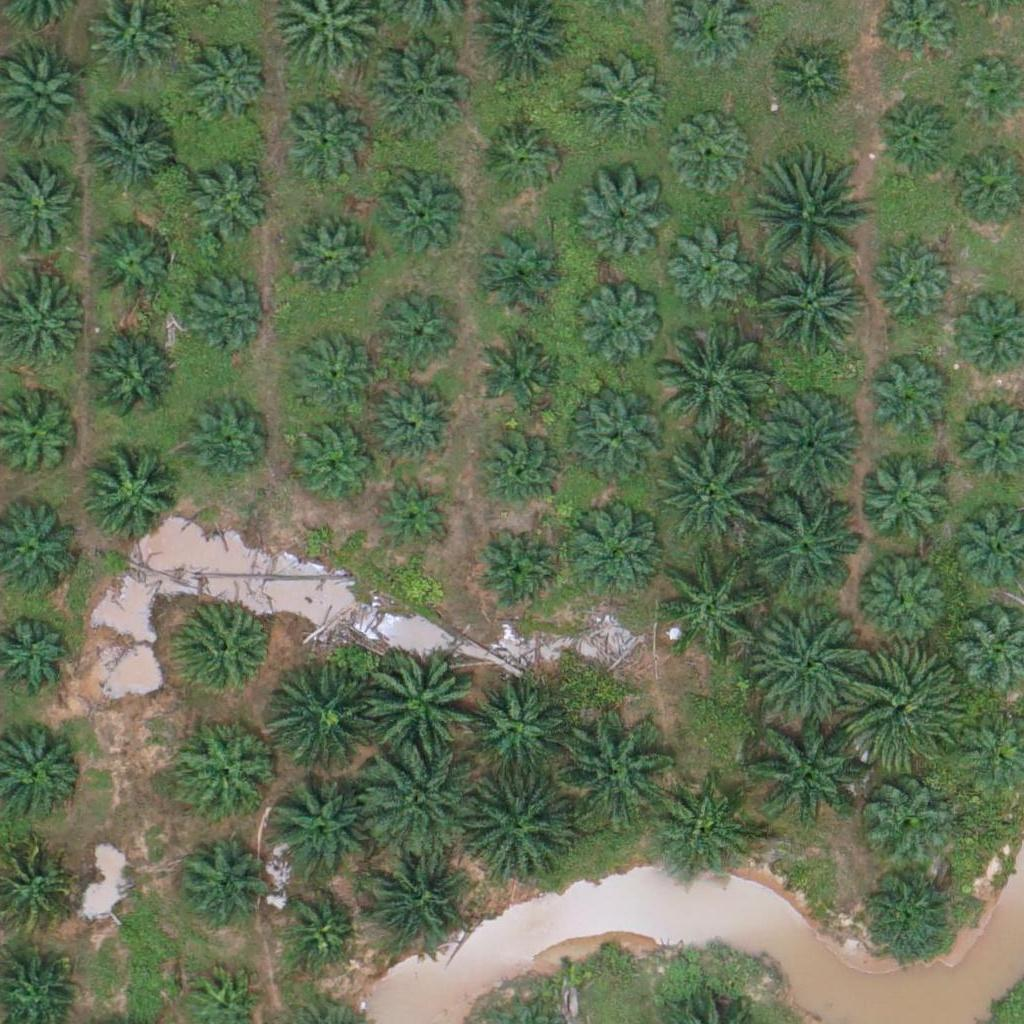Kelapa_Sawit: (458, 770, 571, 884), (747, 385, 860, 499), (846, 649, 959, 762), (754, 162, 867, 275), (751, 483, 864, 596), (265, 666, 378, 779), (758, 610, 870, 724), (747, 712, 859, 825), (558, 712, 670, 825), (366, 745, 478, 858), (752, 255, 864, 368), (659, 549, 771, 662), (659, 440, 771, 553), (655, 328, 767, 441), (365, 649, 477, 762), (266, 775, 366, 876), (564, 395, 664, 496), (365, 41, 465, 142), (465, 676, 565, 777), (84, 99, 184, 200), (80, 331, 180, 432), (81, 447, 181, 548), (857, 864, 957, 964), (654, 785, 754, 885), (364, 850, 464, 950), (177, 718, 277, 818), (857, 548, 957, 648), (861, 452, 961, 552), (563, 501, 663, 601), (175, 603, 275, 703), (861, 771, 949, 859), (174, 835, 262, 923), (760, 38, 848, 126), (867, 355, 955, 443), (576, 181, 664, 269), (576, 282, 664, 370), (179, 34, 267, 122), (183, 162, 271, 250), (176, 264, 264, 352), (278, 212, 366, 300), (376, 167, 464, 255), (475, 530, 563, 618), (477, 113, 565, 201), (666, 114, 754, 202), (873, 93, 960, 181), (866, 241, 953, 329), (183, 399, 270, 487), (293, 416, 380, 504), (289, 331, 376, 419), (280, 95, 367, 183), (374, 292, 461, 380), (375, 376, 462, 464), (473, 420, 560, 508), (481, 323, 568, 411), (473, 226, 560, 314), (665, 227, 752, 315), (579, 58, 666, 146), (88, 217, 175, 305), (376, 473, 451, 549), (281, 892, 356, 967)
